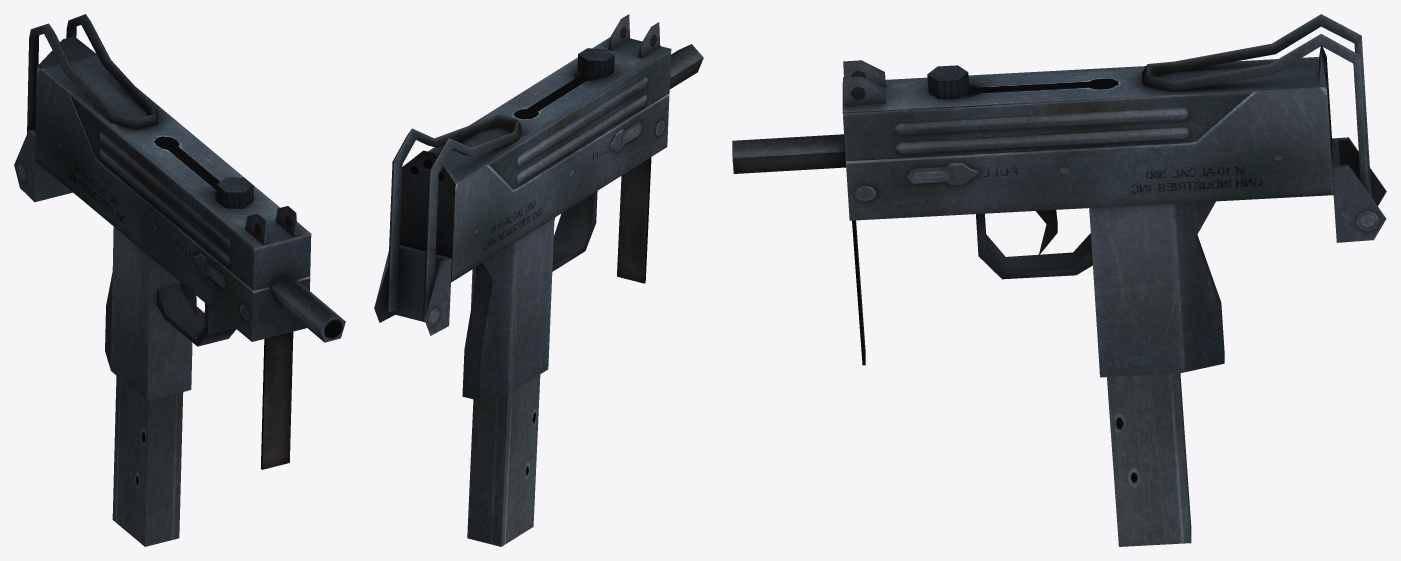
The model's file is mac10.FBX.
3 views of the same model, side by side, from view 1: azimuth 30°, elevation 25°; view 2: azimuth 150°, elevation 25°; view 3: azimuth 270°, elevation 25° (orthographic). The views are drawn at different scales.
Parts seen in each view (by area): view 1: SMDImporter.Mesh.w_smg_mac10; view 2: SMDImporter.Mesh.w_smg_mac10; view 3: SMDImporter.Mesh.w_smg_mac10.
Part boxes in pixels (x1,y1,x2,y2): SMDImporter.Mesh.w_smg_mac10: (14,14,345,546); SMDImporter.Mesh.w_smg_mac10: (374,14,703,546); SMDImporter.Mesh.w_smg_mac10: (732,14,1386,546).
Bounding box in the file's own units: 4.26 × 32.06 × 37.14.
